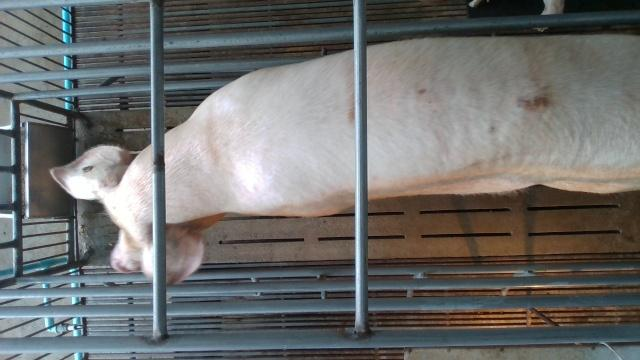sow-stand: (49, 32, 640, 286)
